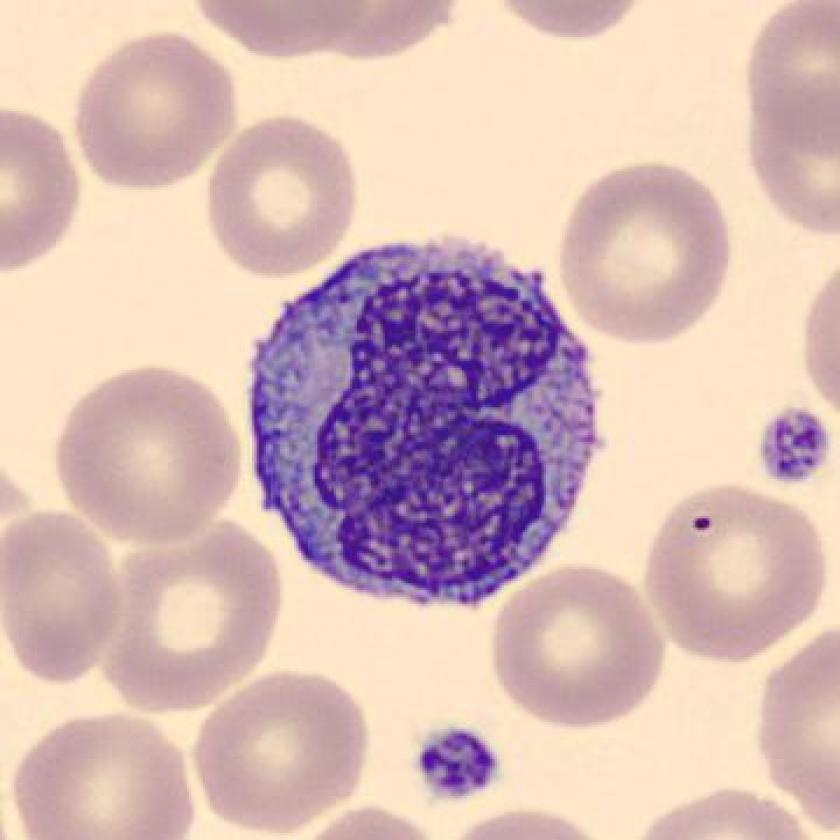monocyte: (225, 223, 633, 624)
